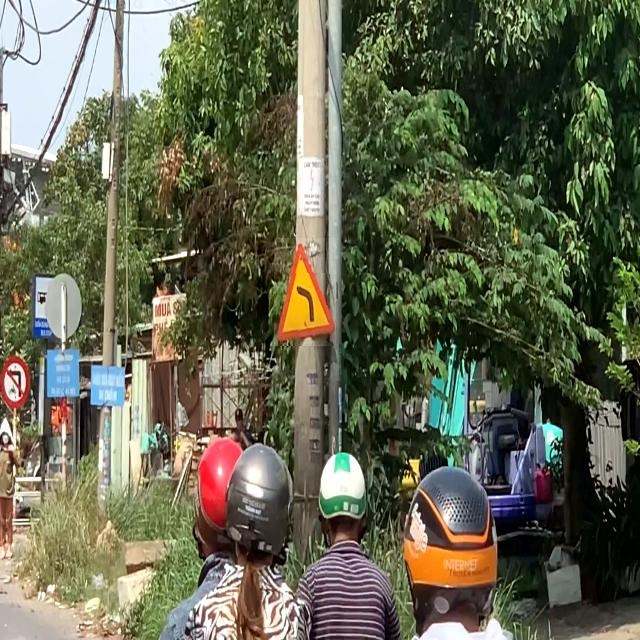bien_nguy_hiem: (274, 238, 336, 346)
